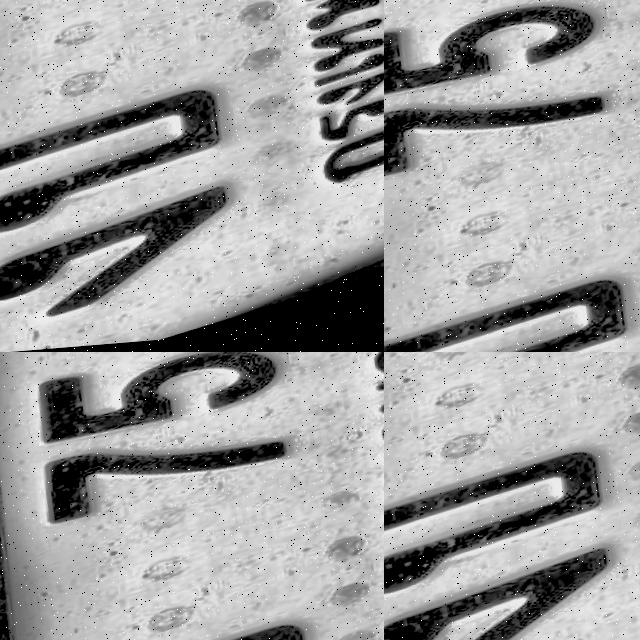license-plate: (0, 0, 384, 352), (384, 352, 640, 640)
